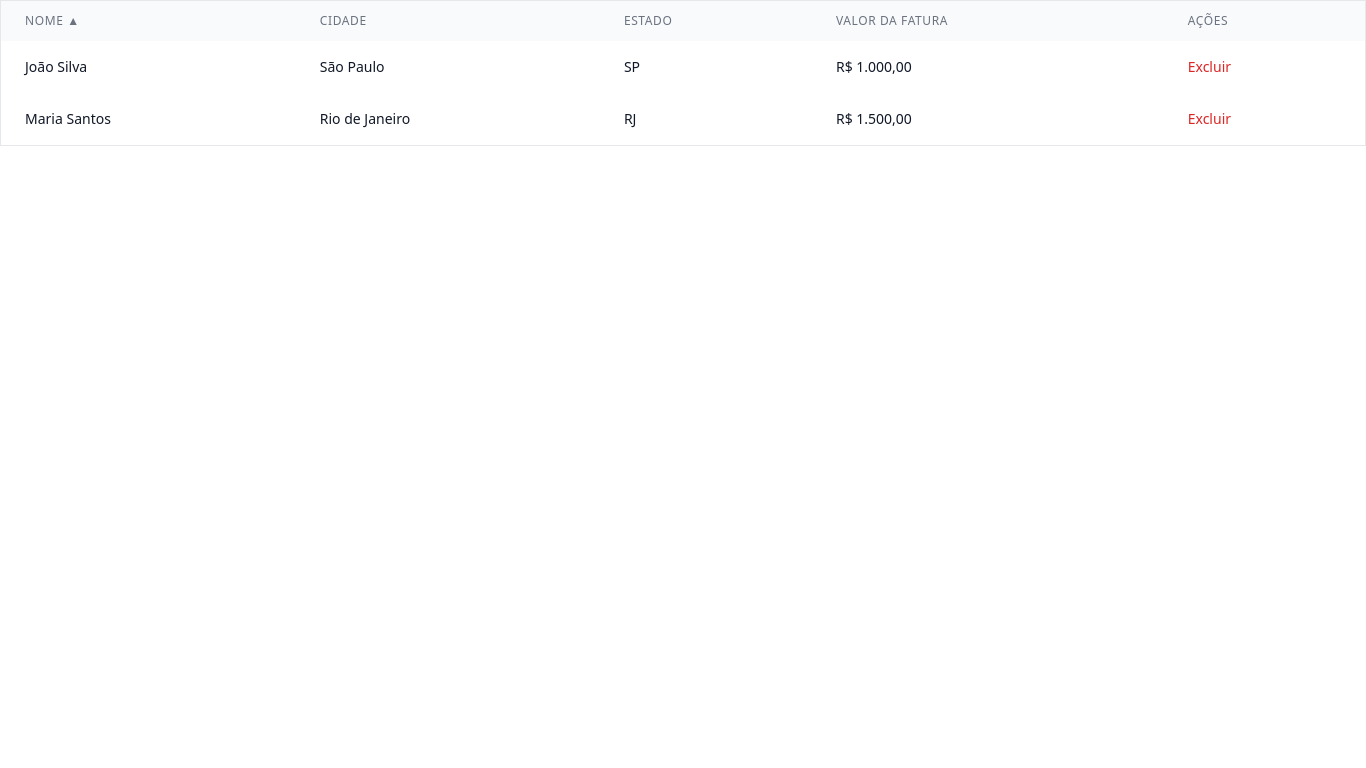
Test: LeadsTable › should open the confirmation modal when clicking delete
The image size is (1366, 768).
Click the button "Excluir" in the row of "João Silva" at (1209, 67), box [1188,57,1231,77]
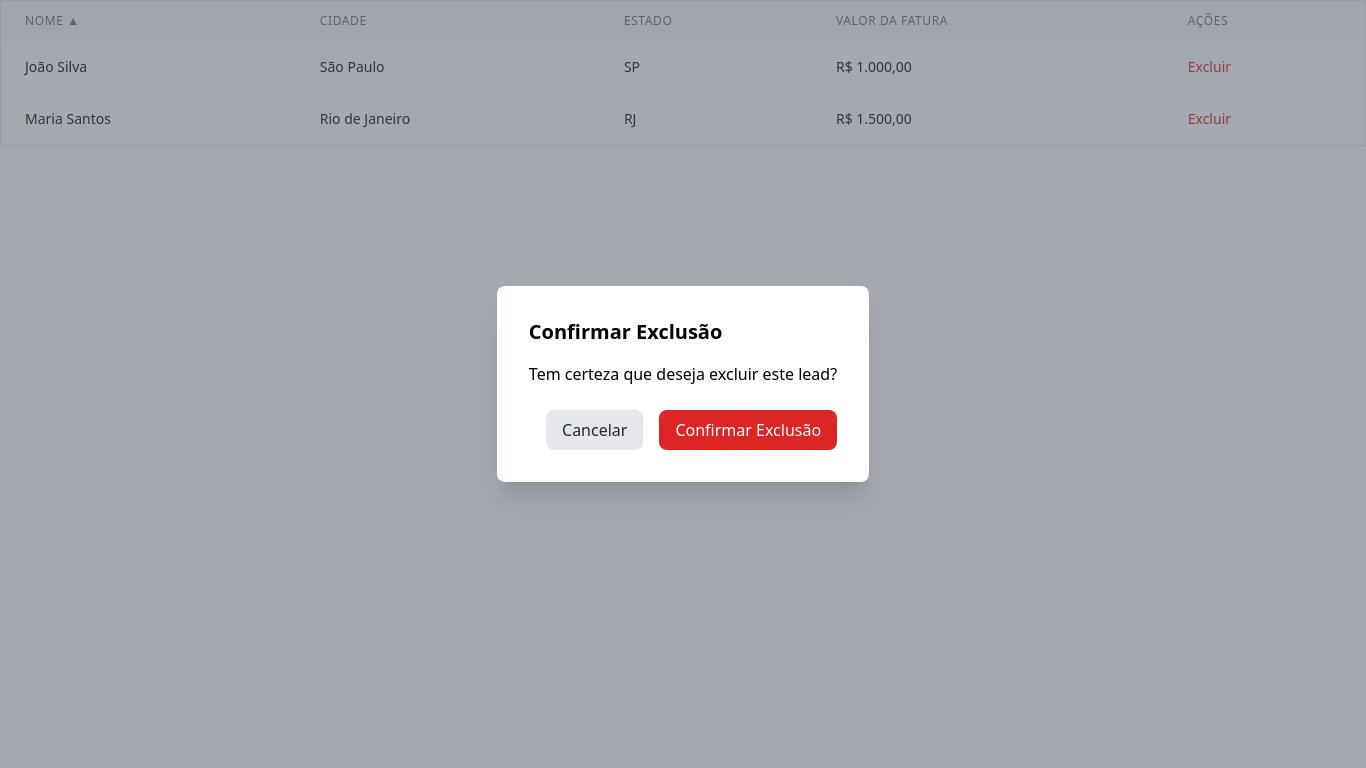
Check: the heading "Confirmar Exclusão" is shown, box [529,318,722,345]
Check: the button "Confirmar Exclusão" is shown, box [659,410,837,450]
Check: the text "Tem certeza que deseja excluir este lead?" is shown, box [529,362,837,386]
